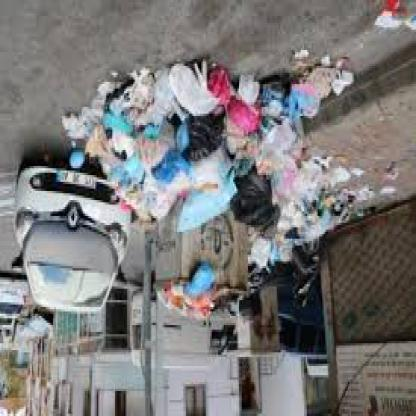Garbage: (124, 93, 164, 209), (296, 43, 362, 105), (177, 180, 236, 242), (230, 166, 283, 228), (257, 116, 307, 178), (156, 286, 238, 318), (112, 61, 150, 130), (65, 93, 115, 143), (233, 80, 283, 126), (156, 48, 191, 113), (201, 61, 241, 109), (304, 191, 338, 243), (110, 113, 146, 162), (222, 107, 256, 148), (289, 157, 319, 202), (138, 138, 165, 186), (375, 2, 410, 38), (322, 161, 362, 191), (184, 262, 218, 296), (274, 212, 294, 260), (345, 182, 372, 214), (248, 236, 270, 272), (106, 148, 119, 173), (206, 296, 215, 318), (180, 298, 194, 312), (390, 164, 400, 180)
